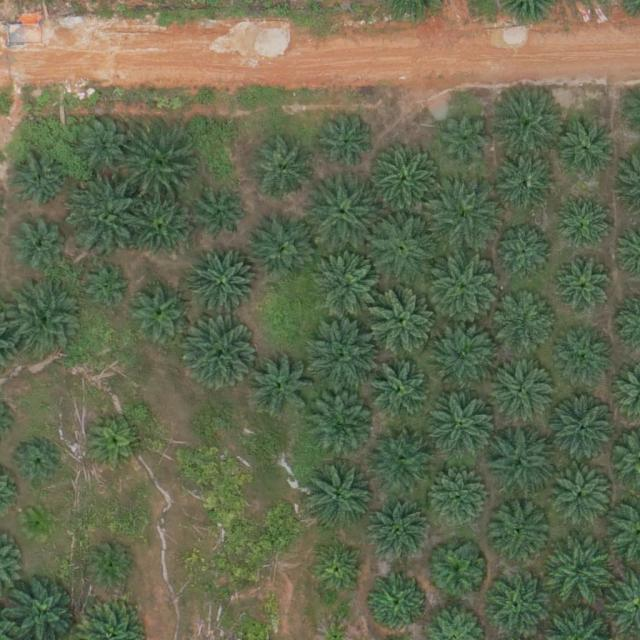Healthy: (430, 255, 501, 326), (306, 463, 377, 534), (487, 358, 558, 429), (549, 394, 620, 464), (430, 183, 501, 253), (431, 320, 501, 391), (431, 392, 502, 462), (367, 289, 437, 360), (366, 213, 436, 284), (367, 146, 437, 217), (313, 252, 383, 323), (310, 324, 380, 395), (306, 392, 377, 462), (190, 249, 260, 320), (183, 321, 253, 392), (126, 132, 196, 203), (12, 289, 82, 360), (545, 324, 615, 395), (493, 85, 563, 156), (487, 291, 557, 362), (487, 428, 557, 499), (312, 177, 382, 247), (69, 182, 139, 252), (545, 540, 615, 610), (315, 111, 378, 174), (249, 353, 312, 416), (129, 194, 192, 257), (70, 111, 133, 174), (554, 255, 617, 318), (494, 154, 557, 217), (430, 466, 492, 529), (368, 501, 430, 564), (250, 219, 312, 282), (252, 142, 315, 204), (130, 282, 192, 345), (488, 576, 550, 639), (486, 504, 548, 567), (547, 466, 609, 529), (373, 430, 435, 492), (370, 360, 432, 422), (552, 191, 614, 253), (556, 114, 618, 176), (427, 543, 482, 598), (368, 576, 423, 631), (195, 188, 250, 243), (78, 261, 133, 316), (500, 228, 555, 283), (441, 113, 495, 168), (310, 544, 364, 599), (12, 155, 66, 210), (12, 217, 66, 272), (87, 418, 141, 473)
Small: (14, 441, 61, 489), (87, 542, 134, 589), (21, 509, 52, 540)
